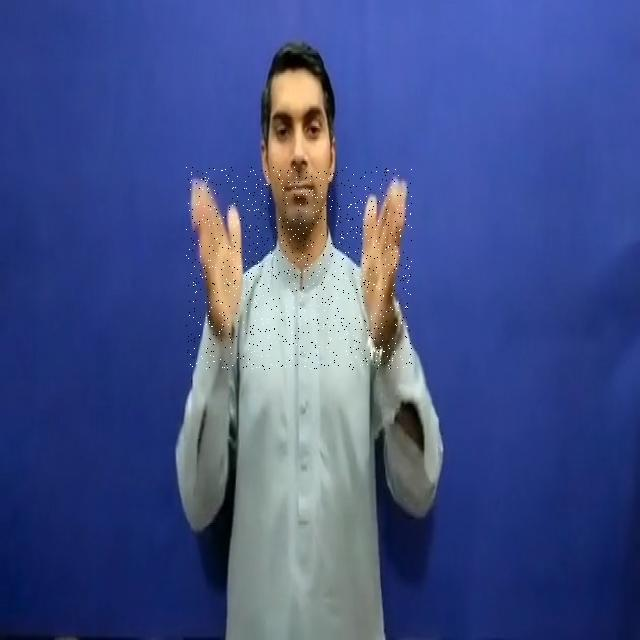manager: (186, 167, 412, 370)
